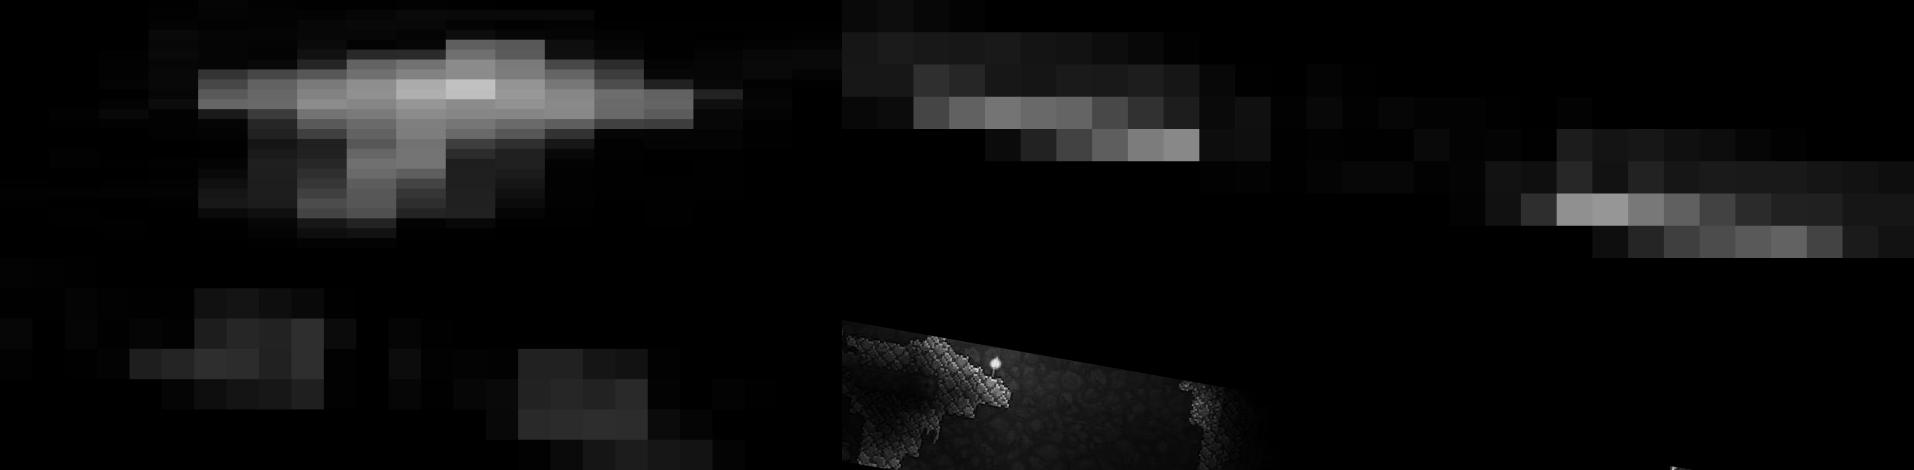breastplate: (842, 0, 1914, 258)
helmet: (0, 258, 842, 470)
torchT: (0, 10, 842, 258)
